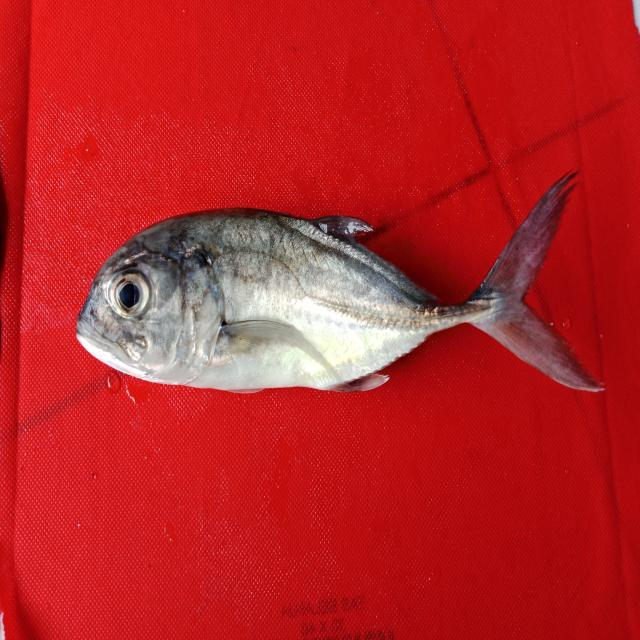ikan: (62, 164, 617, 423)
